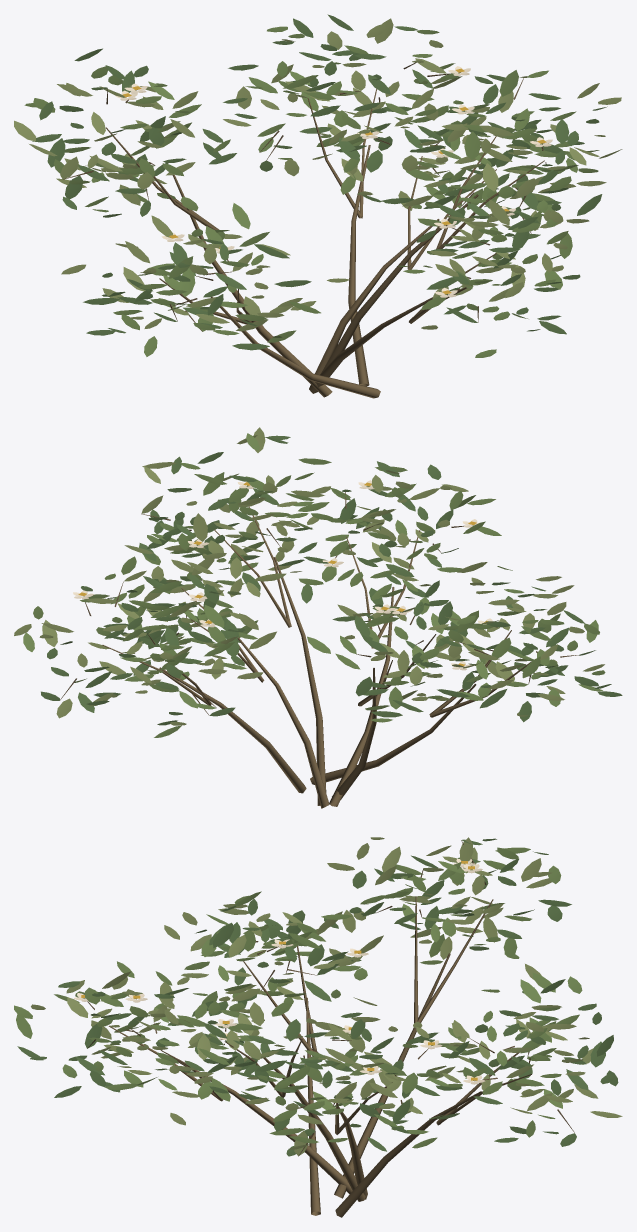
The model's file is Ciste_0_High.fbx.
The picture shows the model from 3 angles, top to bottom: view 1: azimuth 30°, elevation 25°; view 2: azimuth 150°, elevation 25°; view 3: azimuth 270°, elevation 25°; orthographic projection. The views are drawn at different scales.
Visible parts, largest first — view 1: Ciste_0_High; view 2: Ciste_0_High; view 3: Ciste_0_High.
Part boxes in pixels (<box>): Ciste_0_High: <box>14,14,622,398</box>; Ciste_0_High: <box>14,427,622,808</box>; Ciste_0_High: <box>14,837,622,1217</box>.
Size of the model in its own units: 201 by 111 by 210.
